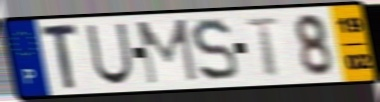8: (294, 12, 335, 78)
M: (134, 17, 201, 88)
S: (188, 16, 241, 84)
T: (39, 21, 81, 92), (243, 16, 283, 78)
U: (84, 21, 135, 87)
